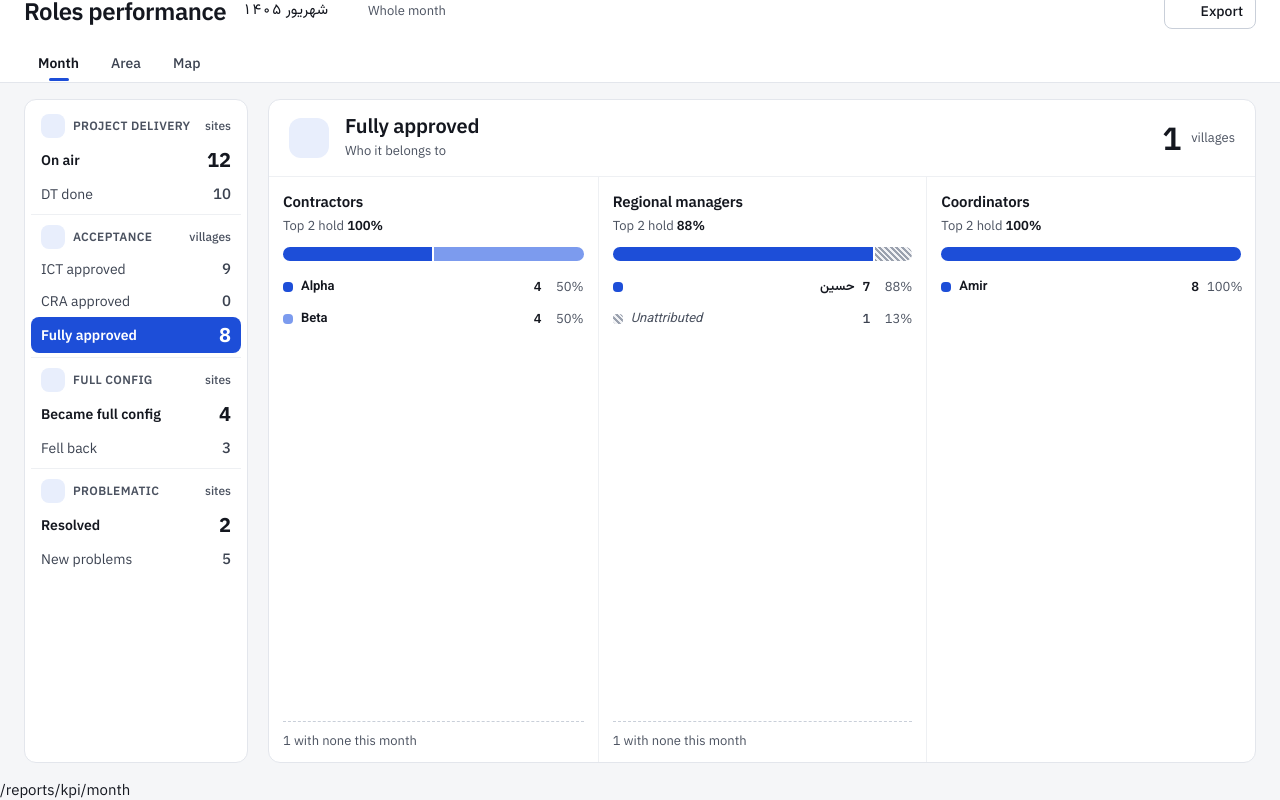
Test case: Month › closes the picker on Escape and gives focus back to the title
(page scrolled)
Click the button with aria-label "Choose month". click: (299, 11)
box: [238,0,360,22]
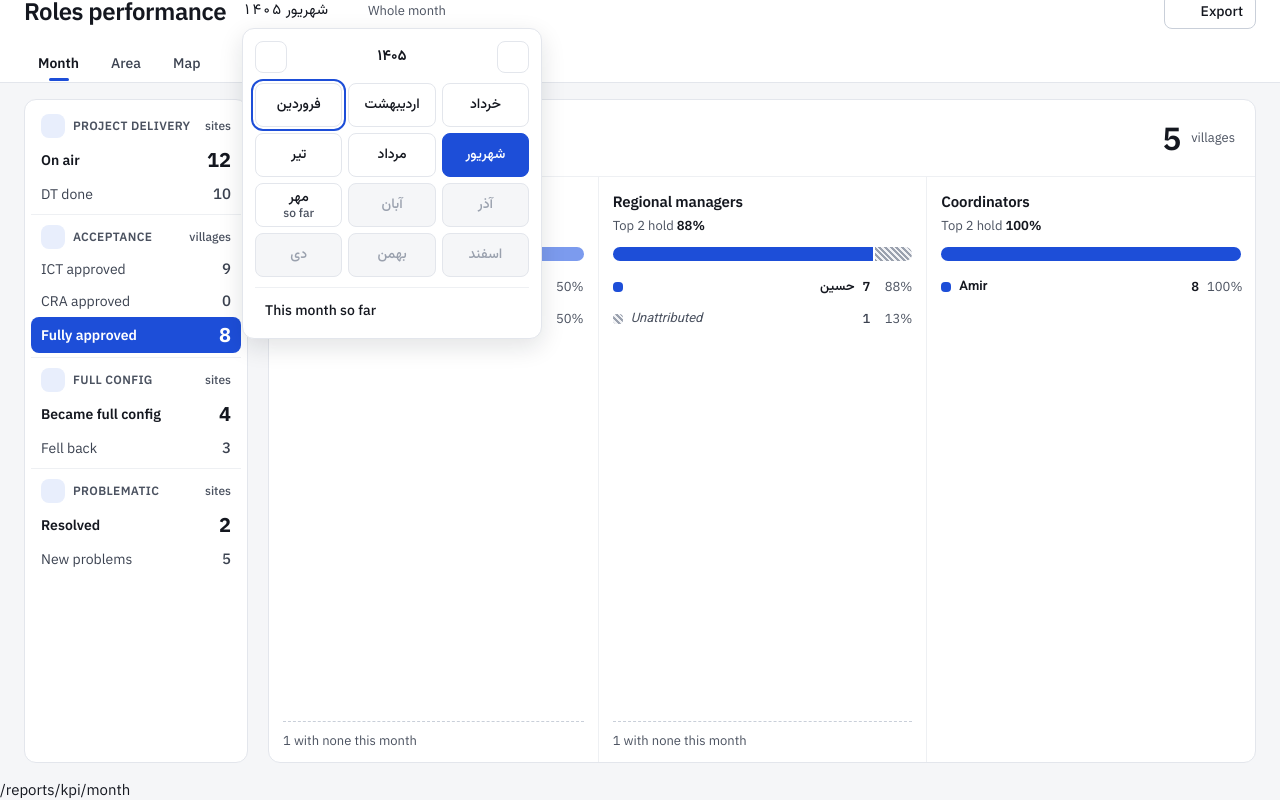
Press Escape
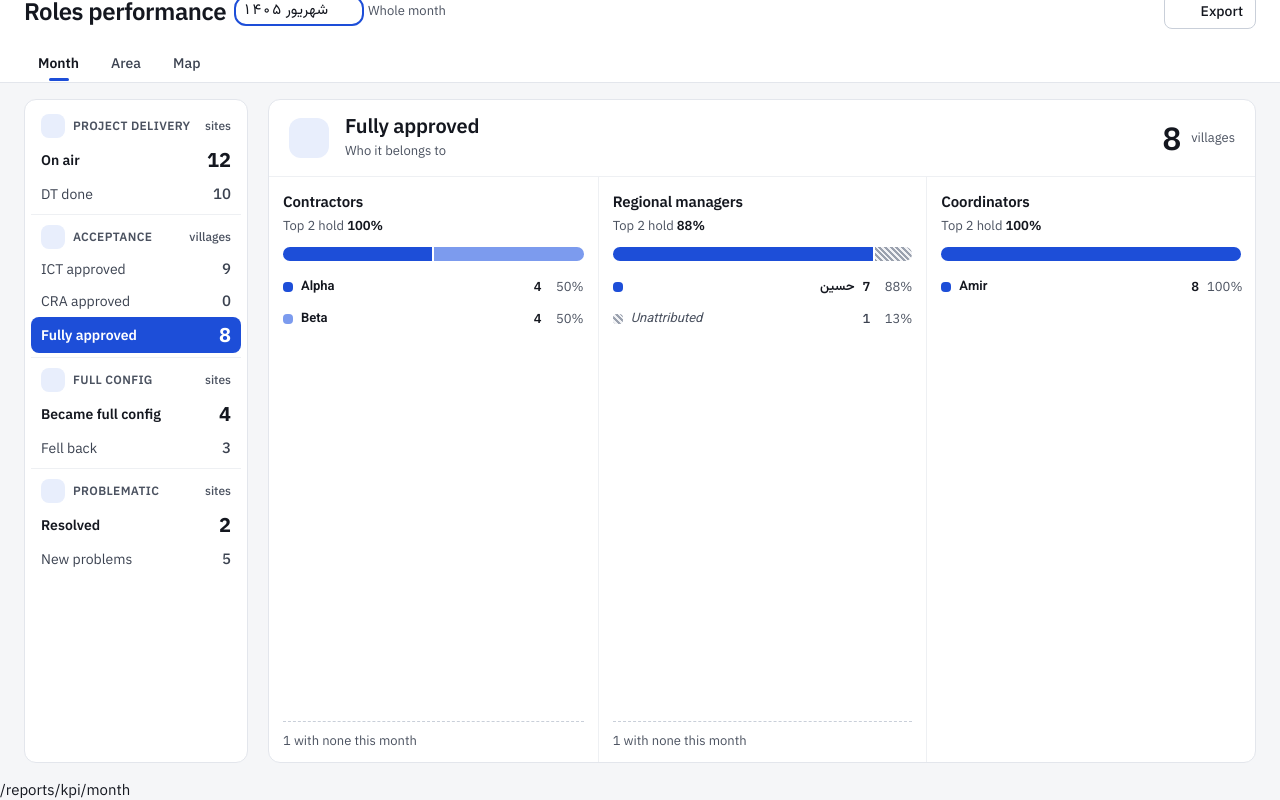
Now the dialog is gone
